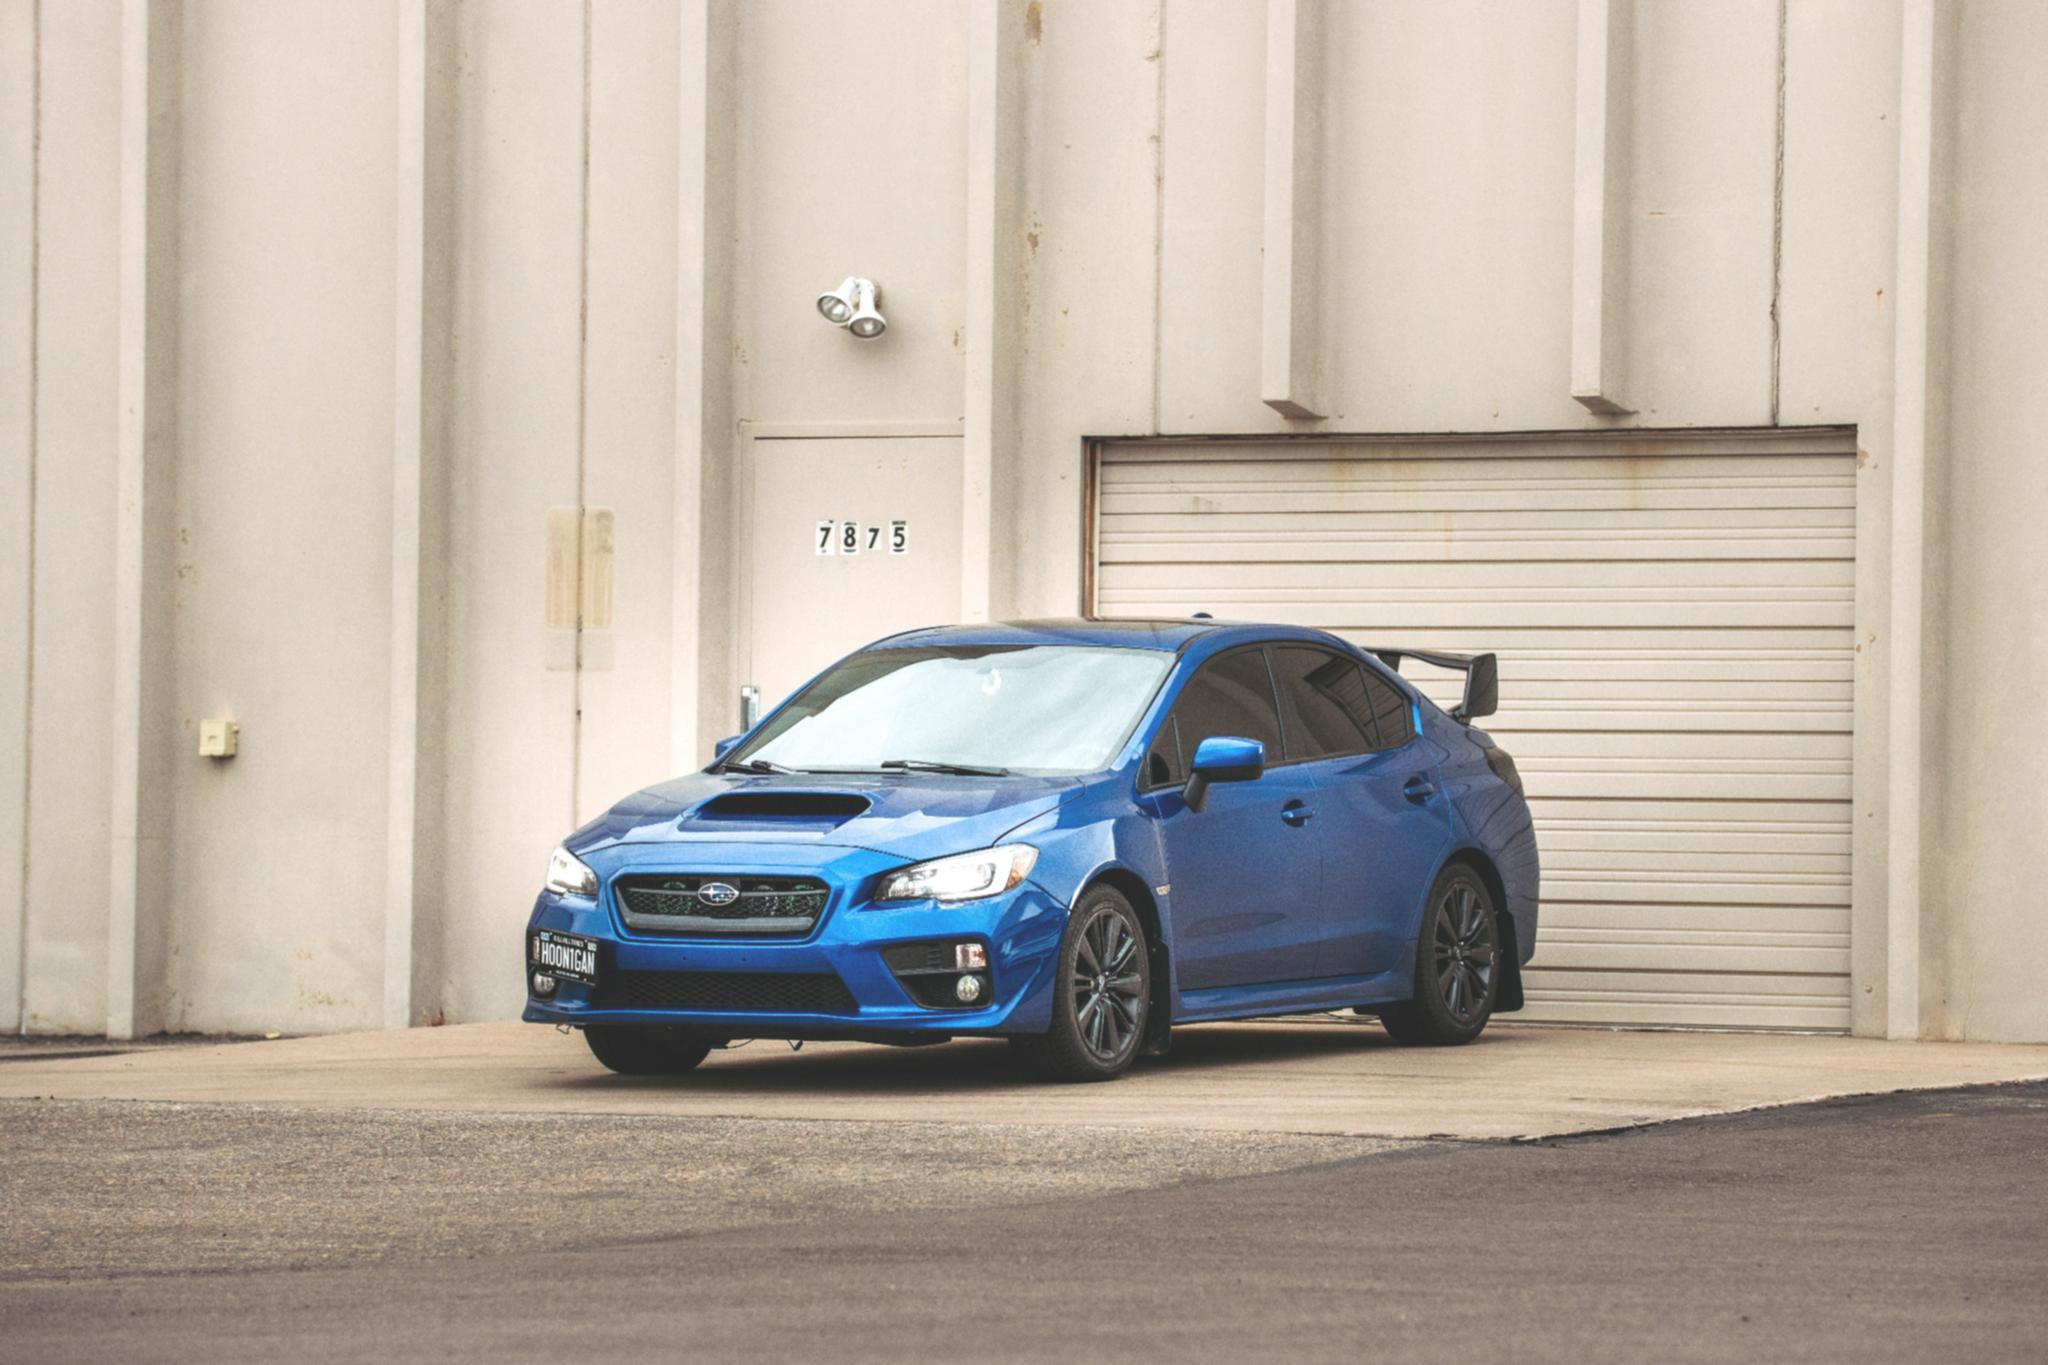subaru: (681, 867, 760, 919)
